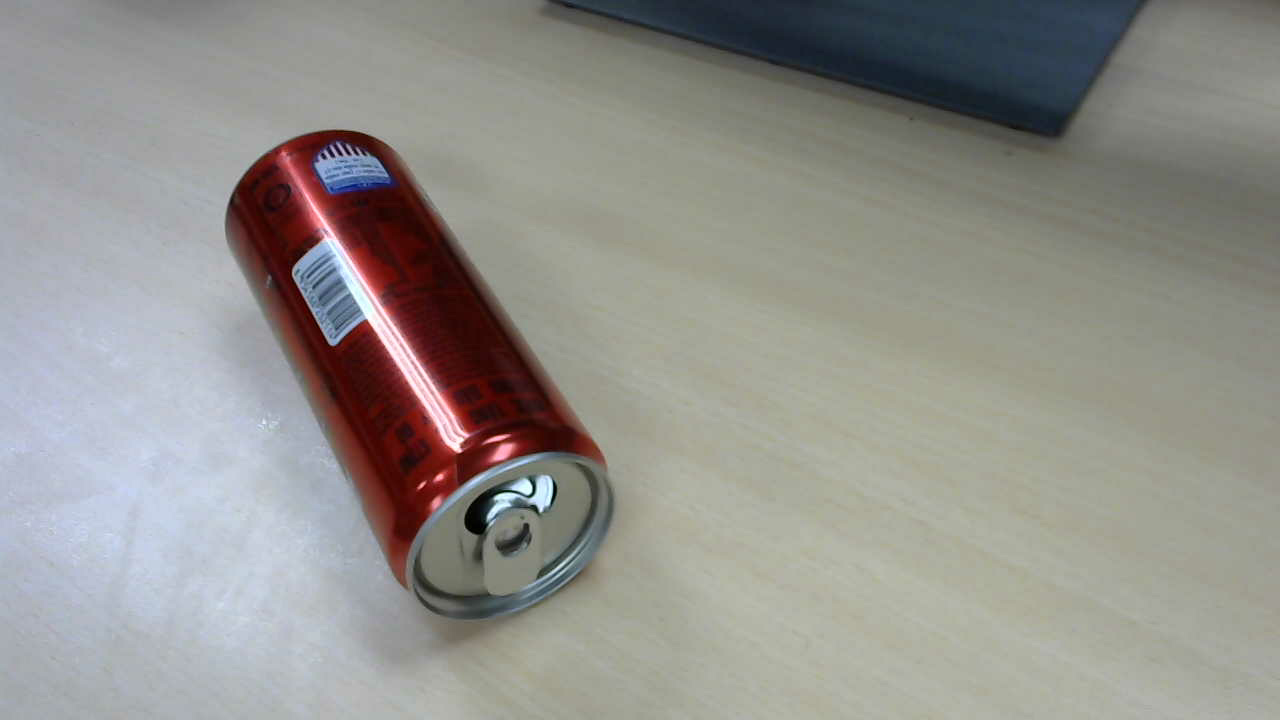Sting: (233, 135, 612, 626)
